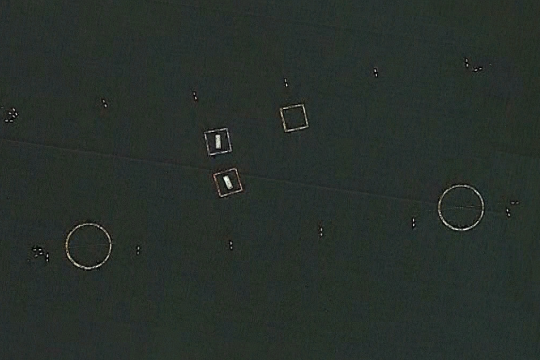circle: (432, 176, 494, 239), (57, 215, 120, 277)
square: (209, 163, 249, 201), (198, 122, 238, 158), (277, 101, 315, 135)
